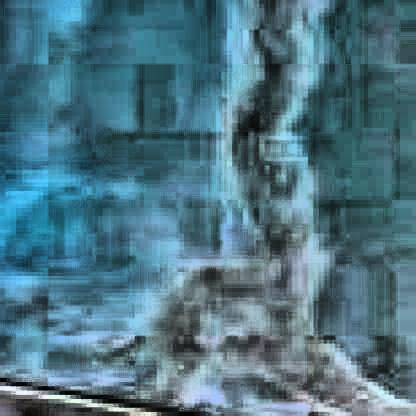sheen: (0, 0, 412, 412)
